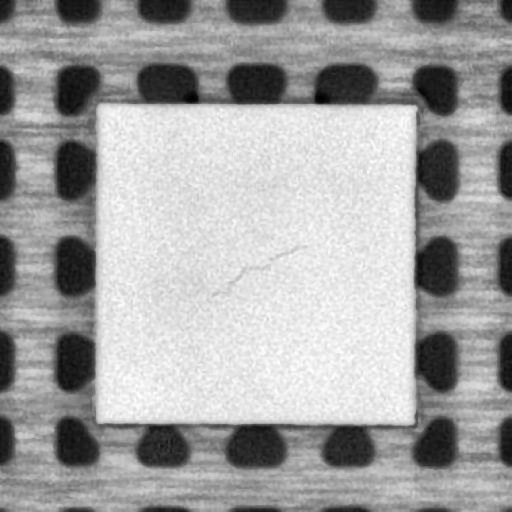DIE_CRACK: (208, 240, 304, 302)
